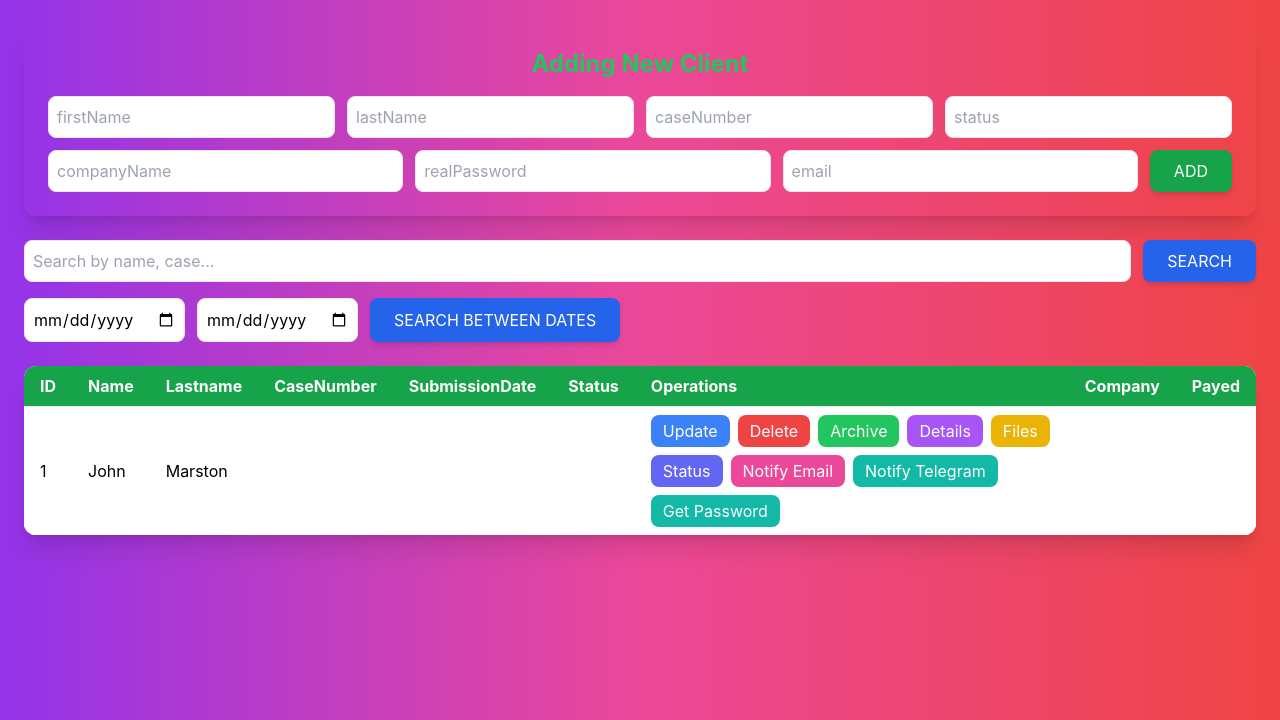
Test: ActualClientsList - handleDelete, handleArchive ,handleUpdate, fetchClientDetails, updateClientNote › deletes client and removes from list on success
Expected: the text "John" is shown, left=72, top=406, right=150, bottom=535
Click the button "Delete" at (774, 431), box left=738, top=415, right=810, bottom=447
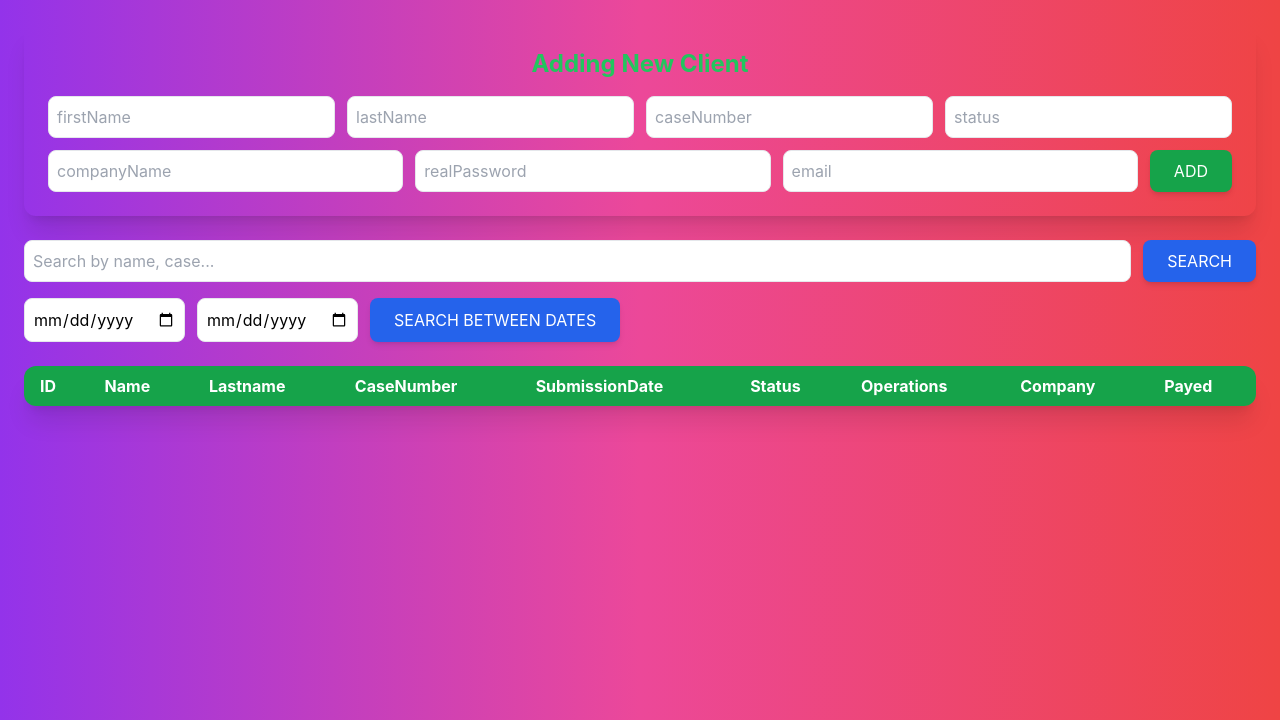
Expected: the text "John" is gone
